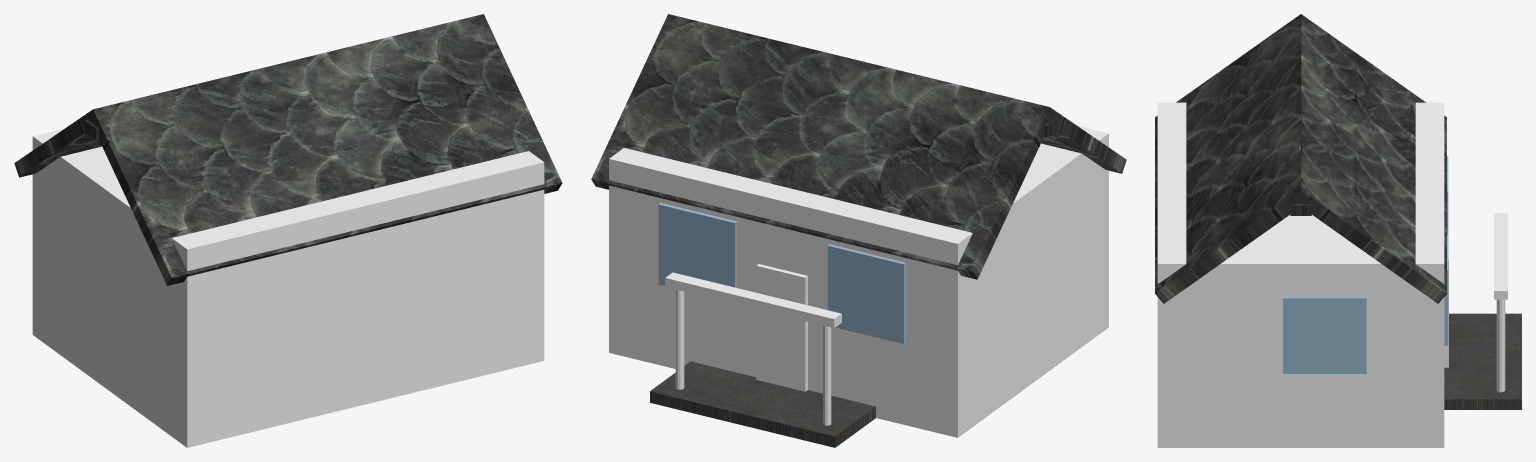
File: House.fbx
3 renders of one model, left to right at view 1: azimuth 30°, elevation 25°; view 2: azimuth 150°, elevation 25°; view 3: azimuth 270°, elevation 25°, orthographic. The views are drawn at different scales.
Visible parts, largest first — view 1: House_Body, House_RoofL, House_RoofR; view 2: House_Body, House_RoofR, House_Porch, House_WindowL, House_WindowR, House_Door, House_Lintel, House_RoofL, House_PostR, House_PostL; view 3: House_Body, House_RoofL, House_RoofR, House_Porch, House_WindowSide, House_Lintel, House_PostR, House_WindowR.
Boxes of the visible parts, bbox=[...] form: House_Body: bbox=[32, 128, 544, 447]; House_RoofL: bbox=[88, 14, 562, 285]; House_RoofR: bbox=[14, 14, 483, 177]; House_Body: bbox=[609, 125, 1108, 437]; House_RoofR: bbox=[591, 14, 1054, 279]; House_Porch: bbox=[650, 361, 875, 447]; House_WindowL: bbox=[827, 244, 905, 343]; House_WindowR: bbox=[658, 203, 736, 287]; House_Door: bbox=[756, 264, 807, 391]; House_Lintel: bbox=[665, 272, 841, 327]; House_RoofL: bbox=[668, 14, 1126, 173]; House_PostR: bbox=[675, 289, 684, 389]; House_PostL: bbox=[823, 325, 831, 425]; House_Body: bbox=[1157, 102, 1444, 447]; House_RoofL: bbox=[1155, 14, 1309, 303]; House_RoofR: bbox=[1293, 14, 1446, 303]; House_Porch: bbox=[1444, 313, 1521, 409]; House_WindowSide: bbox=[1283, 296, 1366, 373]; House_Lintel: bbox=[1494, 213, 1507, 299]; House_PostR: bbox=[1496, 299, 1505, 392]; House_WindowR: bbox=[1444, 234, 1448, 345].
Bounding box in the file's own units: 7.1 × 4.9 × 6.15.
